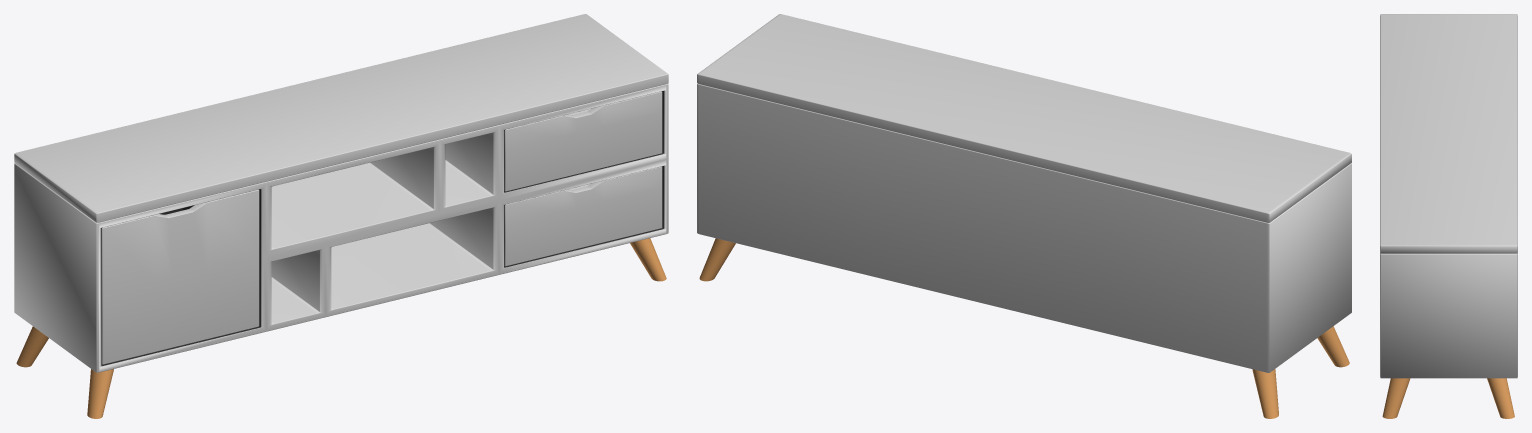
File: TV CABINET.fbx
The picture shows the model from 3 angles, left to right: view 1: azimuth 30°, elevation 25°; view 2: azimuth 150°, elevation 25°; view 3: azimuth 270°, elevation 25°; orthographic projection. The views are drawn at different scales.
Parts seen in each view (by area): view 1: CABINET, STORAGE, DRAWER 1, DRAWER 2, LEG; view 2: CABINET, LEG; view 3: CABINET, LEG.
Boxes of the visible parts, x1,y1,x2,y2 form: CABINET: (14,14,668,372); STORAGE: (102,189,259,364); DRAWER 1: (504,91,662,191); DRAWER 2: (504,166,662,266); LEG: (16,238,666,418); CABINET: (697,14,1351,372); LEG: (699,238,1349,418); CABINET: (1380,14,1517,378); LEG: (1382,378,1514,418).
Size of the model in its own units: 804 by 276 by 200.
